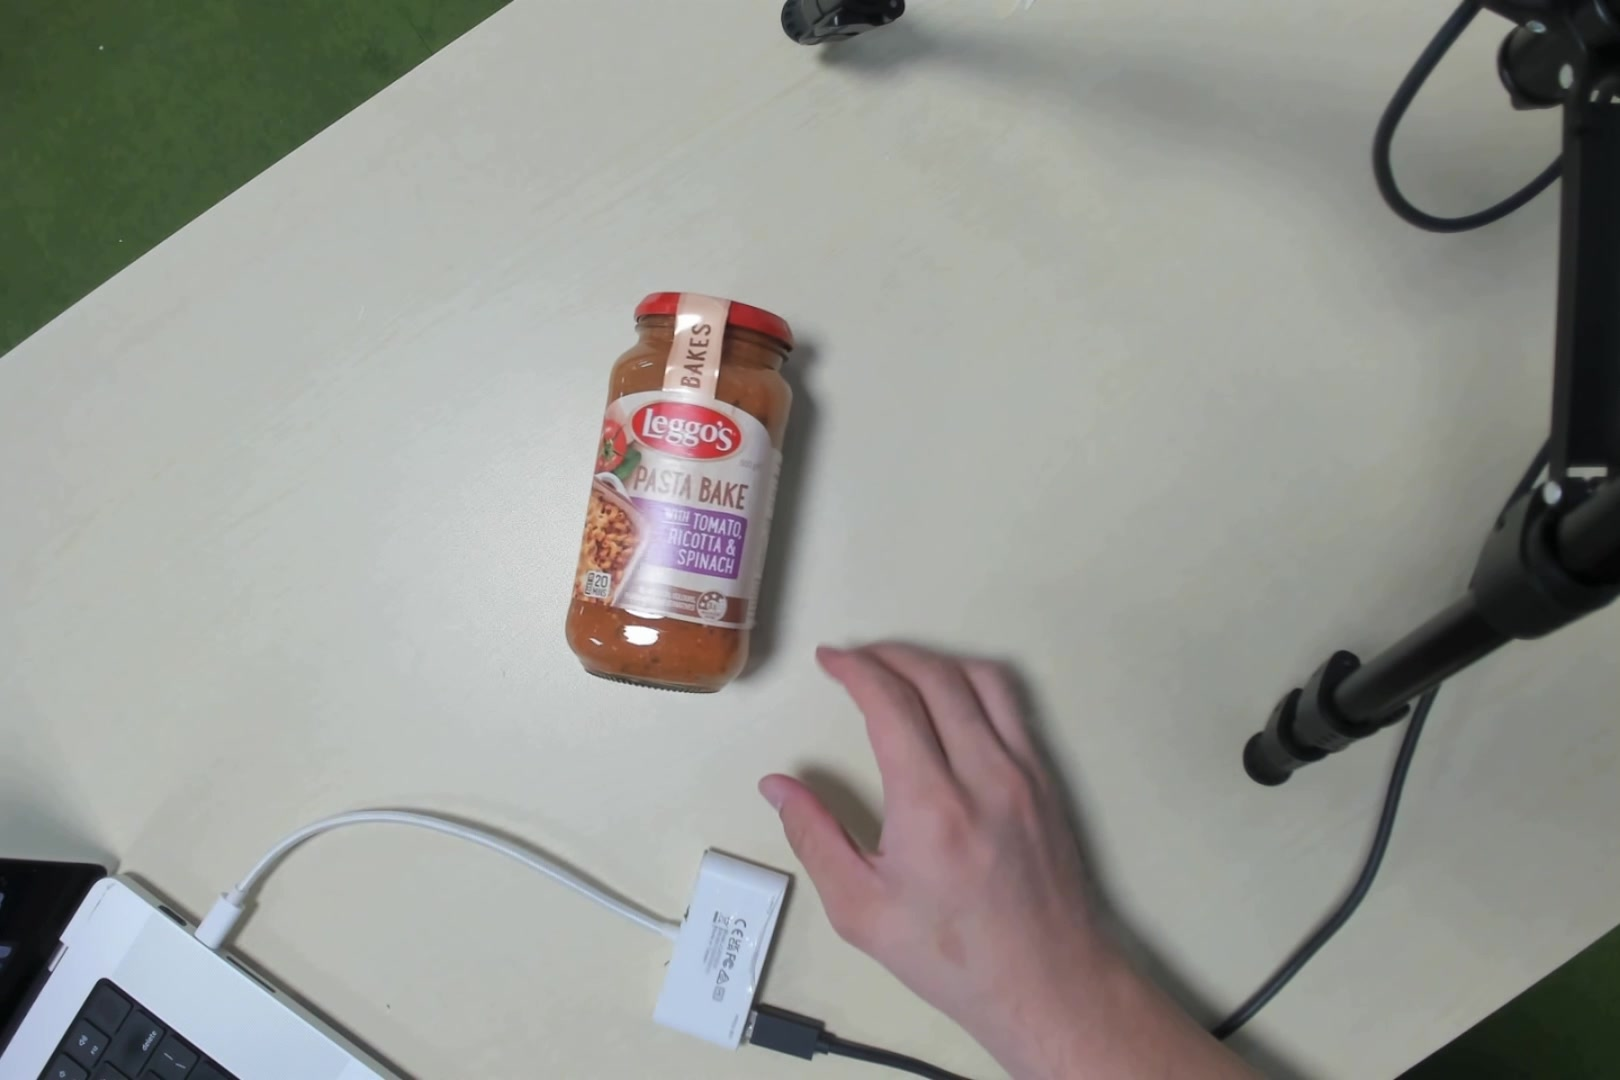Pasta_500-599g_Halal_NonHealthy: (577, 284, 775, 685)
